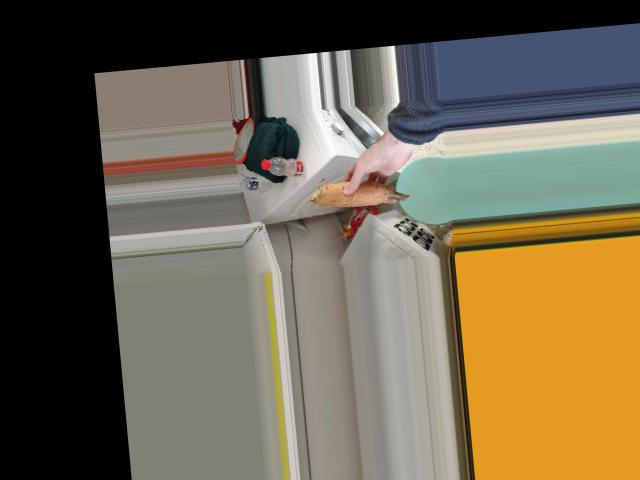sweet_potato: (315, 172, 403, 212)
